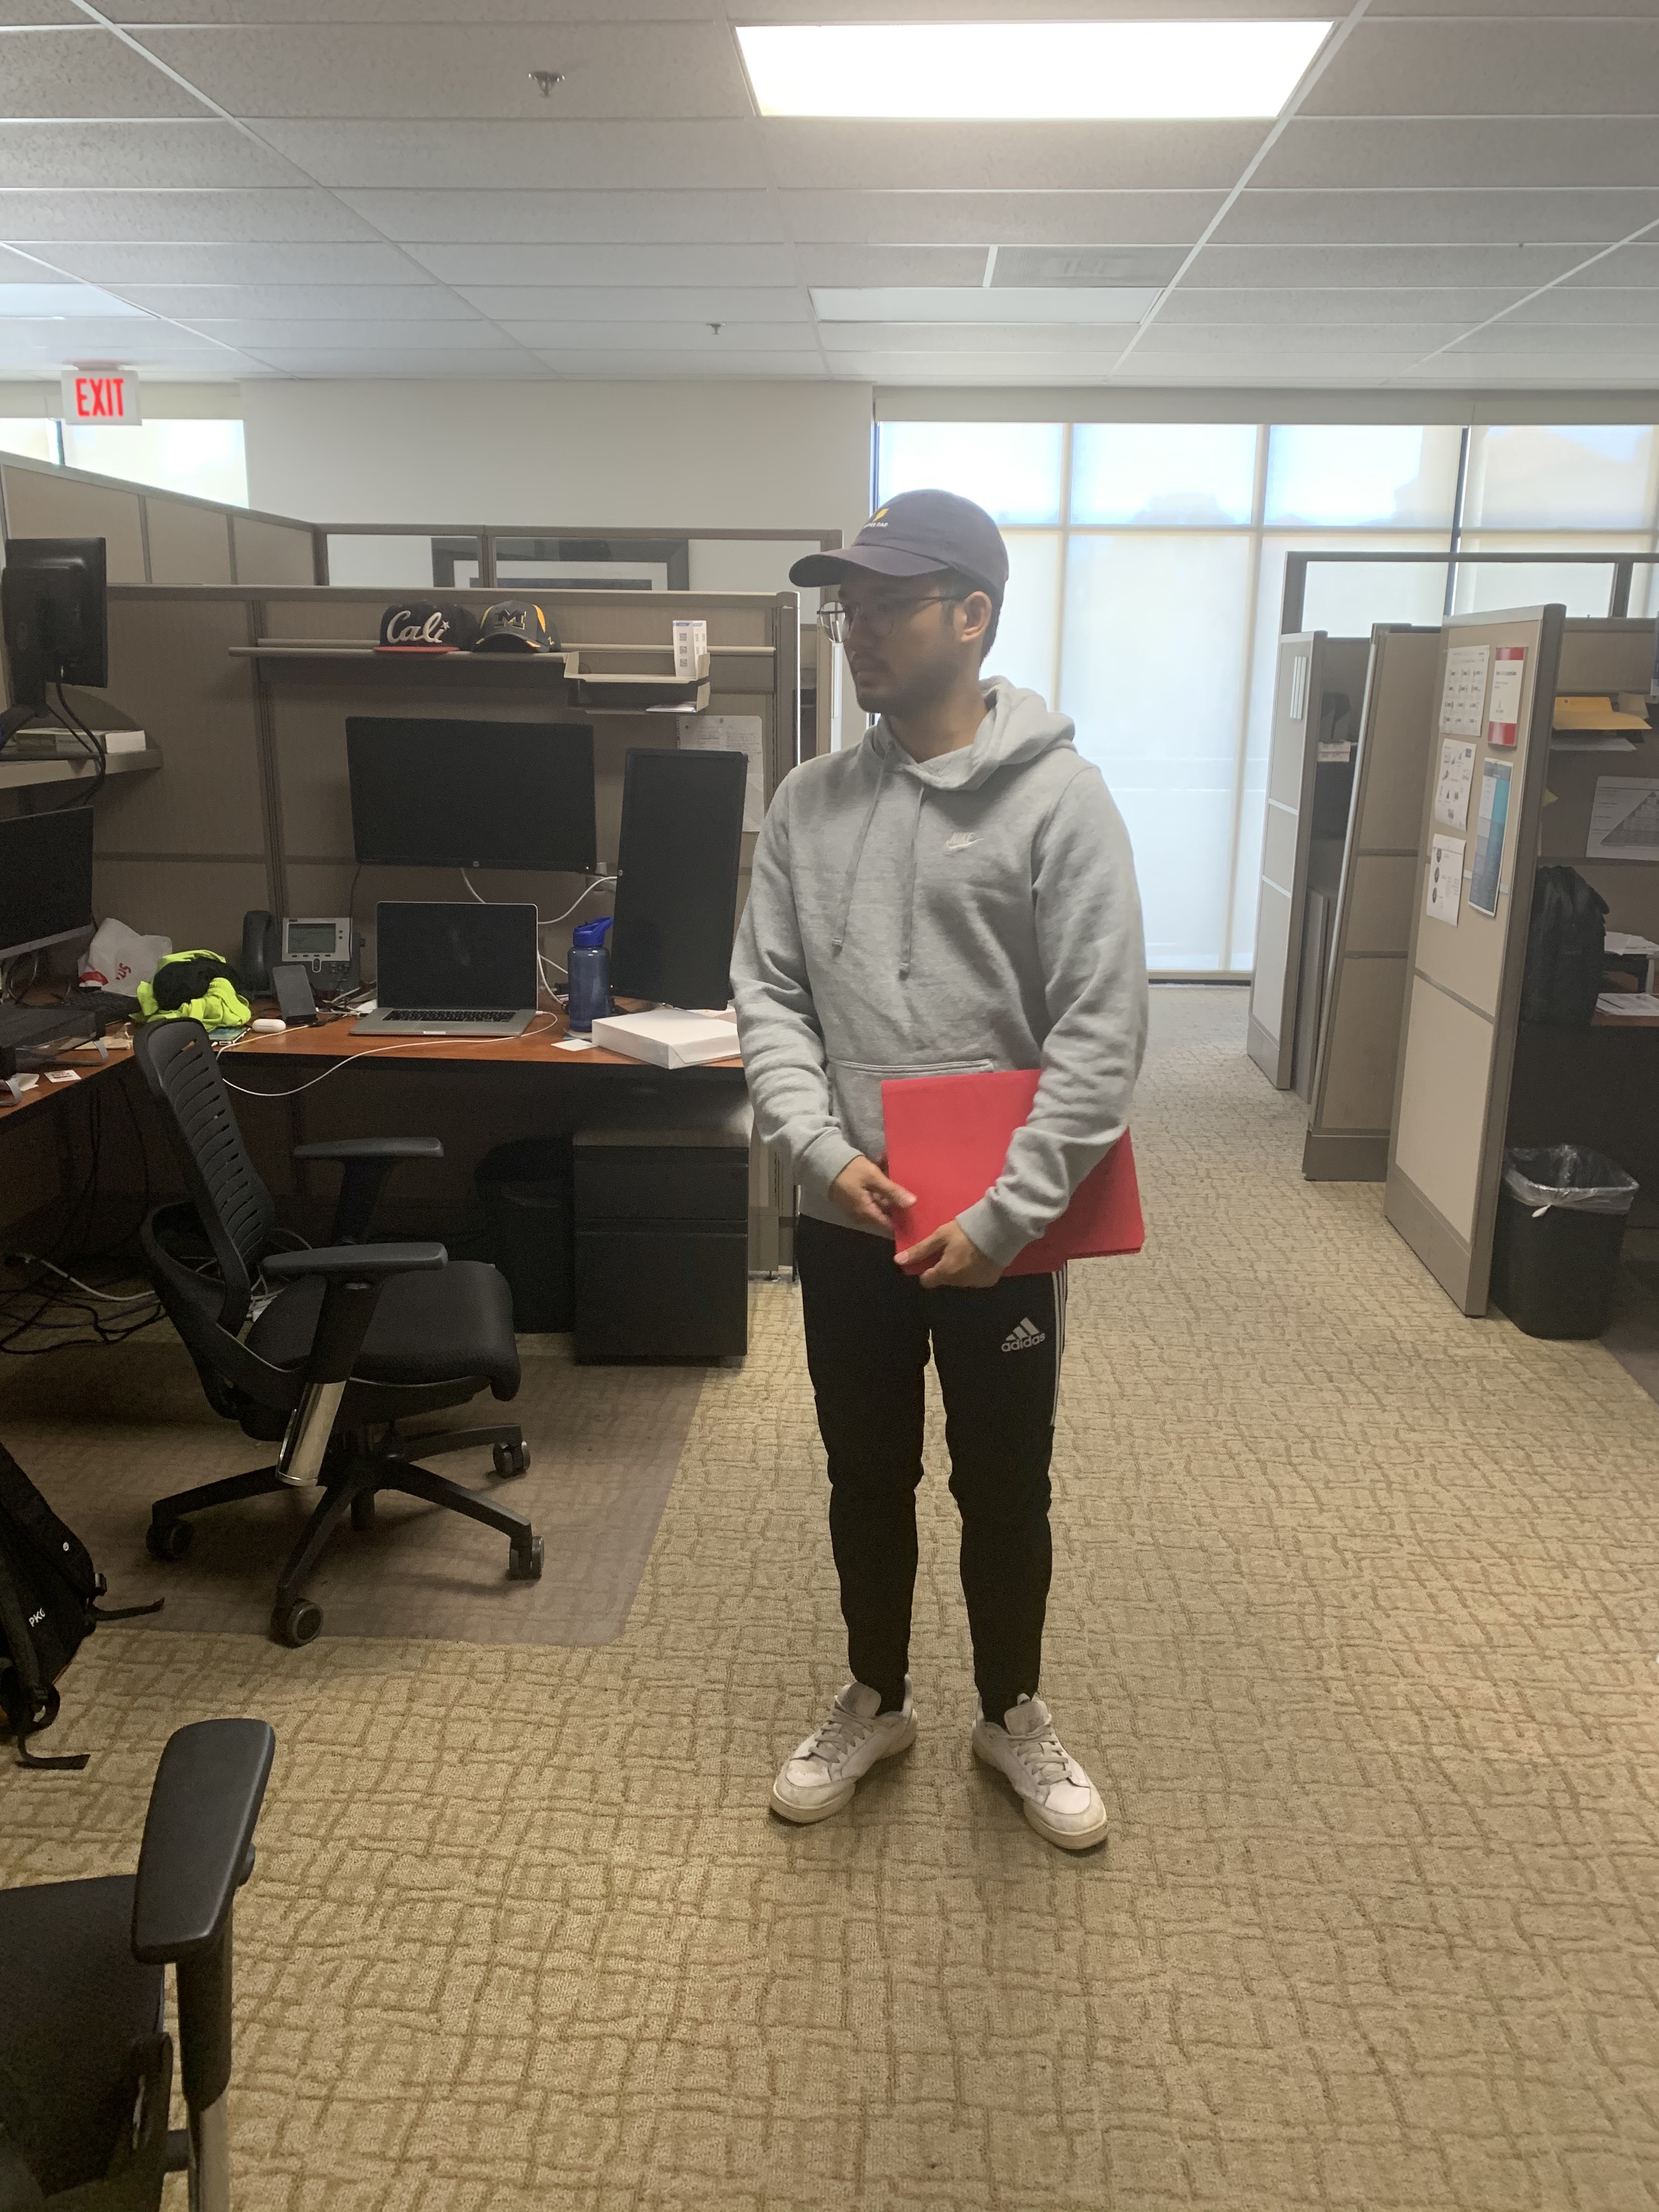red folder: (866, 1059, 1171, 1291)
